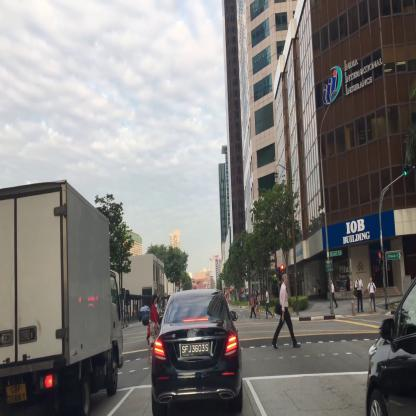red_traffic_light: (281, 263, 283, 278)
